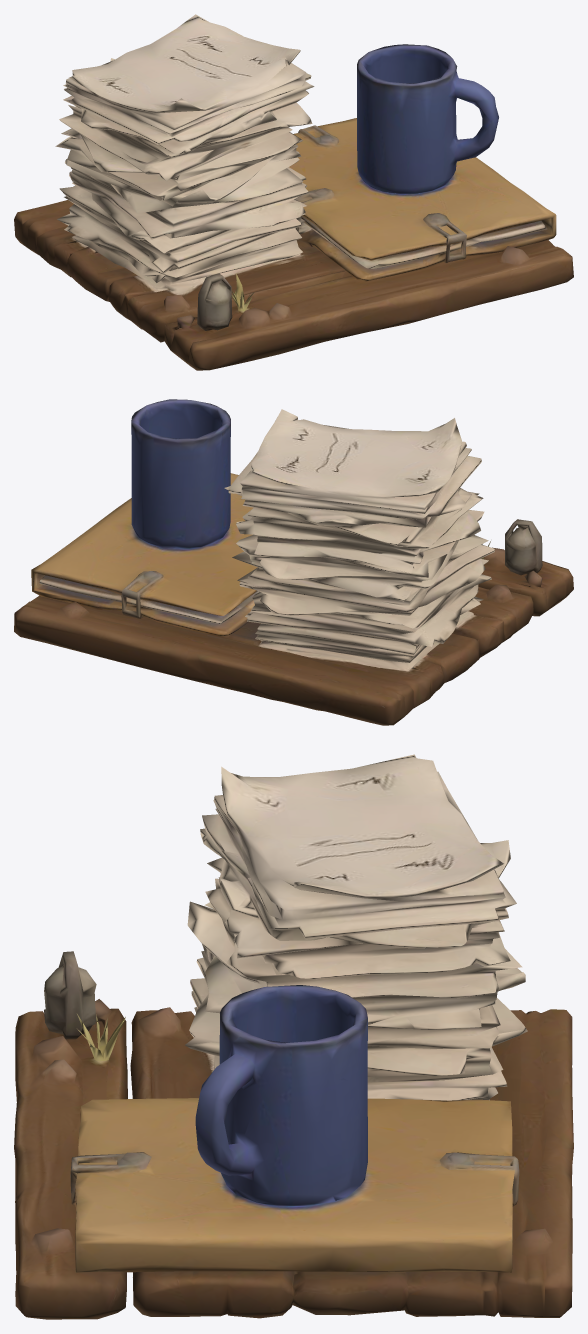
Rendered from office_papers.glb.
3 renders of one model, top to bottom at view 1: azimuth 30°, elevation 25°; view 2: azimuth 150°, elevation 25°; view 3: azimuth 270°, elevation 25°, orthographic. The views are drawn at different scales.
Parts seen in each view (by area): view 1: tripo_node_2432a2a4-5079-486f-a618-44cf55791b88; view 2: tripo_node_2432a2a4-5079-486f-a618-44cf55791b88; view 3: tripo_node_2432a2a4-5079-486f-a618-44cf55791b88.
Boxes of the visible parts, x1=… form: tripo_node_2432a2a4-5079-486f-a618-44cf55791b88: x1=14, y1=14, x2=573, y2=370; tripo_node_2432a2a4-5079-486f-a618-44cf55791b88: x1=14, y1=399, x2=573, y2=725; tripo_node_2432a2a4-5079-486f-a618-44cf55791b88: x1=14, y1=754, x2=573, y2=1319.
Size of the model in its own units: 1 by 0.539 by 0.8539.
Materials: 1 (1 with a texture image).
